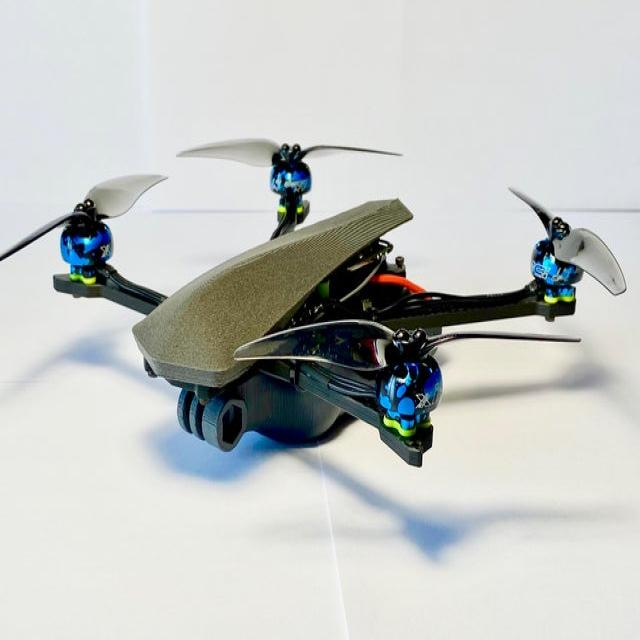drone: (0, 96, 640, 538)
